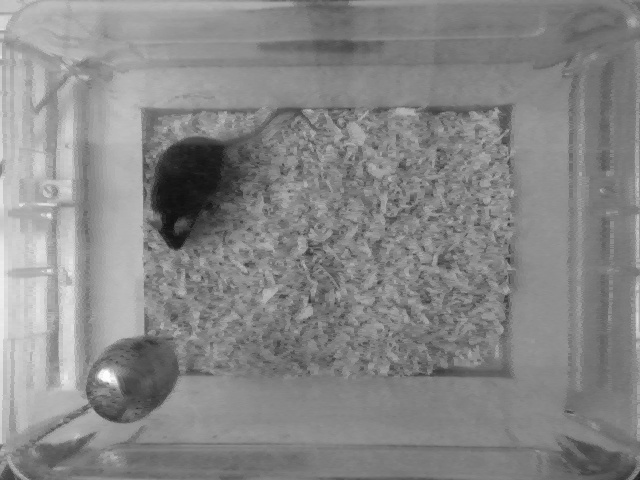mice: (147, 104, 306, 253)
